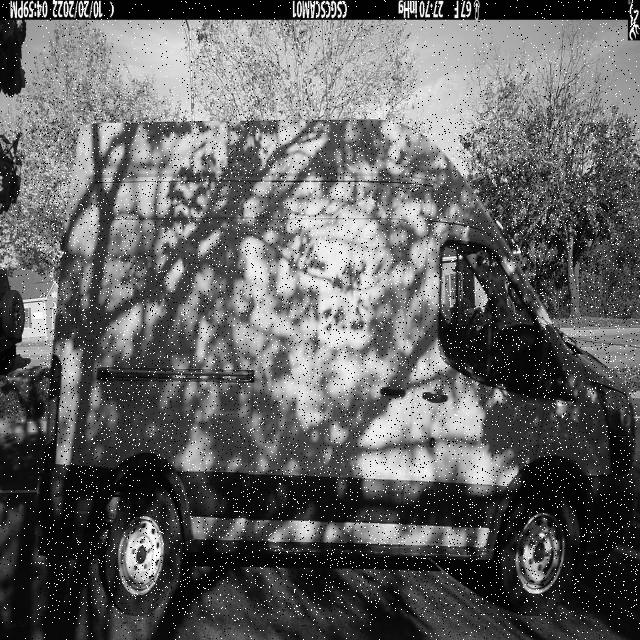Van: (38, 119, 637, 619)
